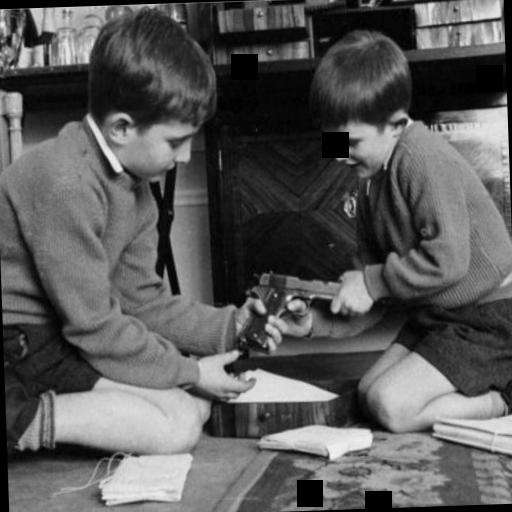Handgun: (232, 262, 358, 354)
